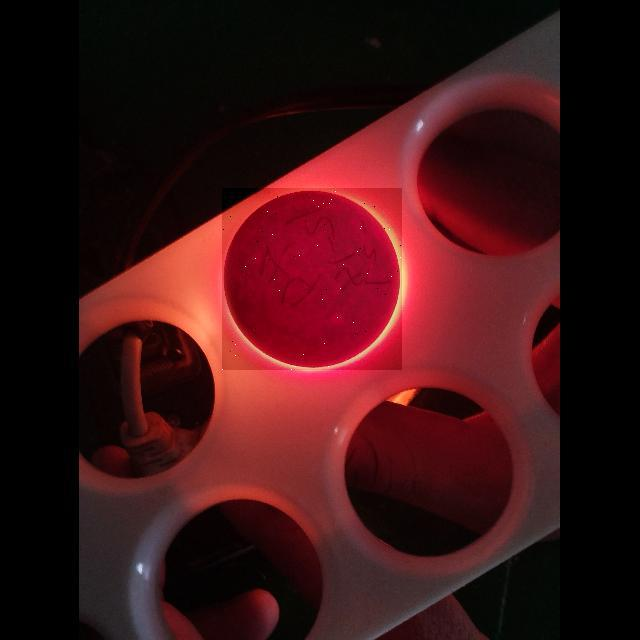Infertile: (222, 188, 402, 370)
